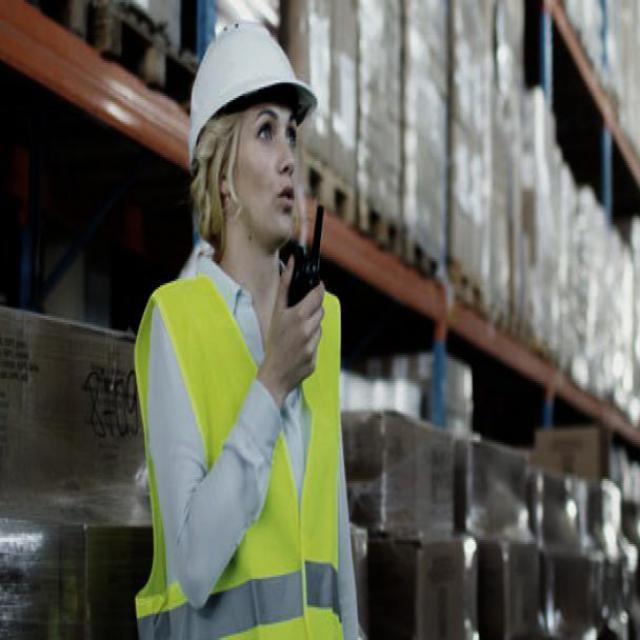helmet: (176, 0, 318, 273)
vest: (105, 250, 353, 638)
